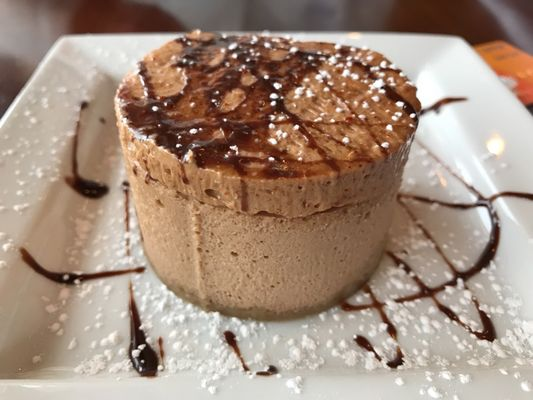soup: (111, 33, 424, 319)
